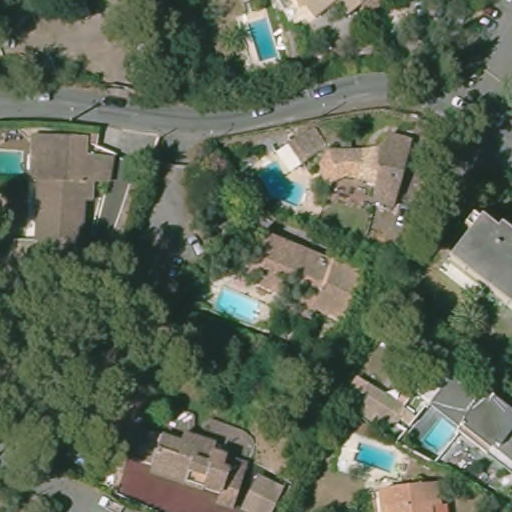pool: (252, 158, 309, 209), (210, 280, 268, 327), (237, 8, 284, 64), (418, 410, 461, 461), (350, 437, 402, 477), (1, 143, 29, 180)
